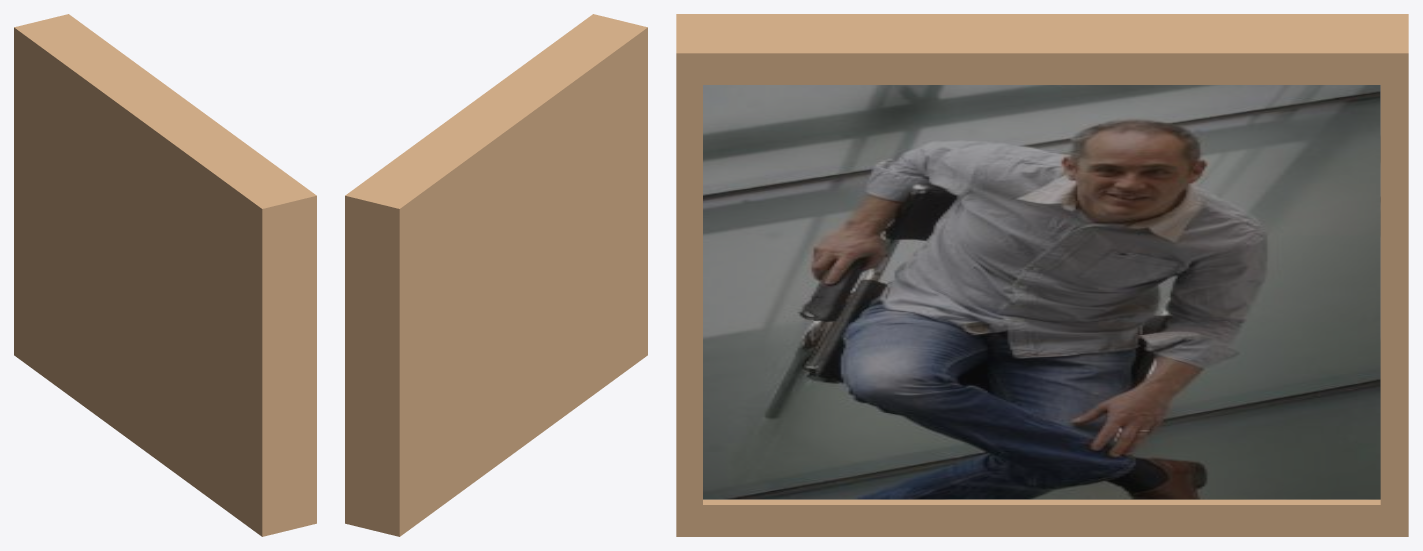
File: cuadro1.fbx
The picture shows the model from 3 angles, left to right: view 1: azimuth 30°, elevation 25°; view 2: azimuth 150°, elevation 25°; view 3: azimuth 270°, elevation 25°; orthographic projection. The views are drawn at different scales.
Parts seen in each view (by area): view 1: Cube; view 2: Cube; view 3: Plane, Cube.
Part boxes in pixels (box(x1,y1,x2,y2)): Cube: box(14, 14, 316, 536); Cube: box(345, 14, 647, 536); Plane: box(703, 85, 1380, 499); Cube: box(676, 14, 1408, 536).
Size of the model in its own units: 40.2 by 230 by 316.
Materials: 2 (1 with a texture image).
